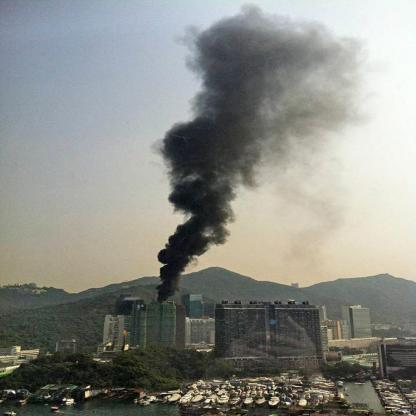smoke: (216, 23, 342, 100), (174, 118, 296, 162), (171, 174, 230, 214), (185, 221, 234, 242), (153, 246, 216, 262), (158, 263, 176, 302)
